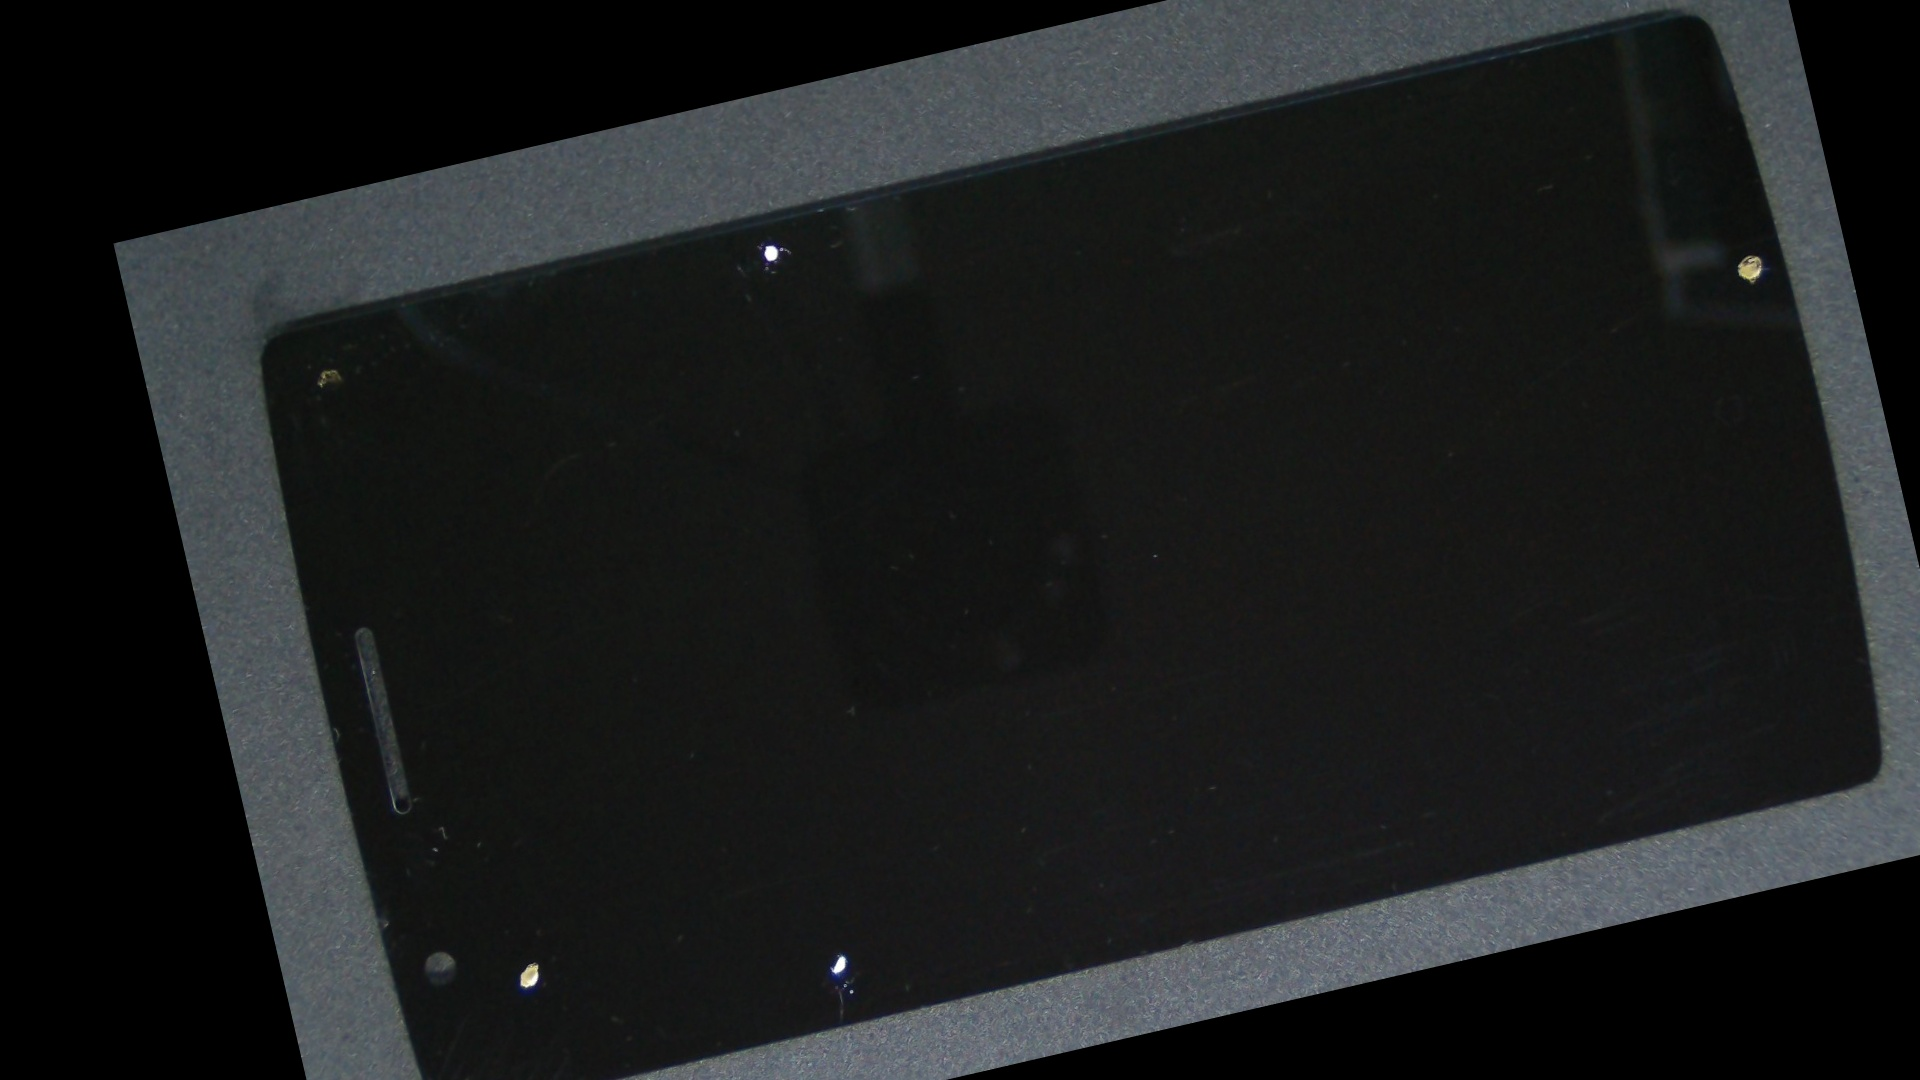oil: (931, 47, 1884, 618), (476, 475, 1138, 1080), (483, 485, 1149, 1080), (322, 549, 692, 1080), (436, 102, 1084, 386)
